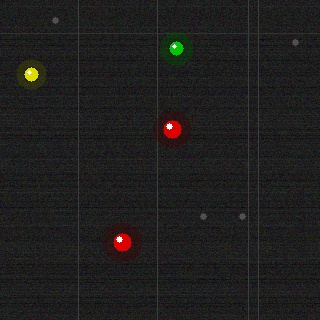green_normal: (167, 39, 185, 57)
red_fault: (161, 118, 183, 140), (111, 231, 133, 253)
yellow_warning: (22, 65, 40, 83)
